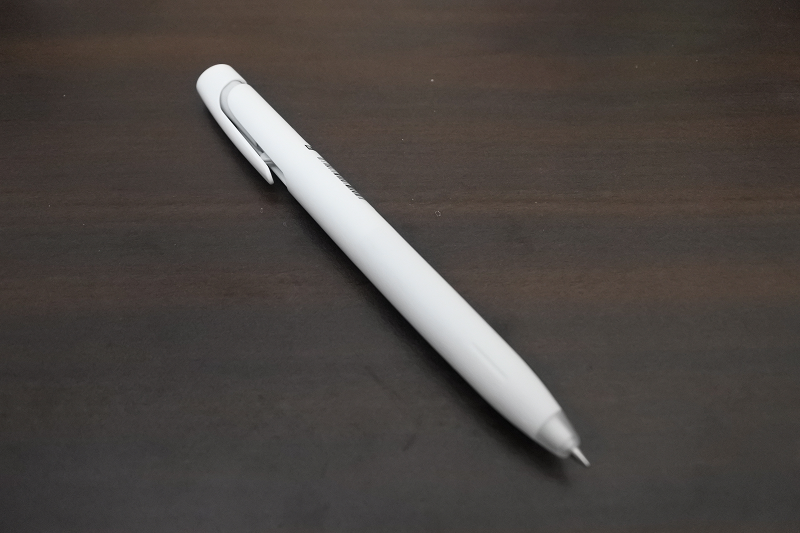pen: (188, 49, 596, 474)
